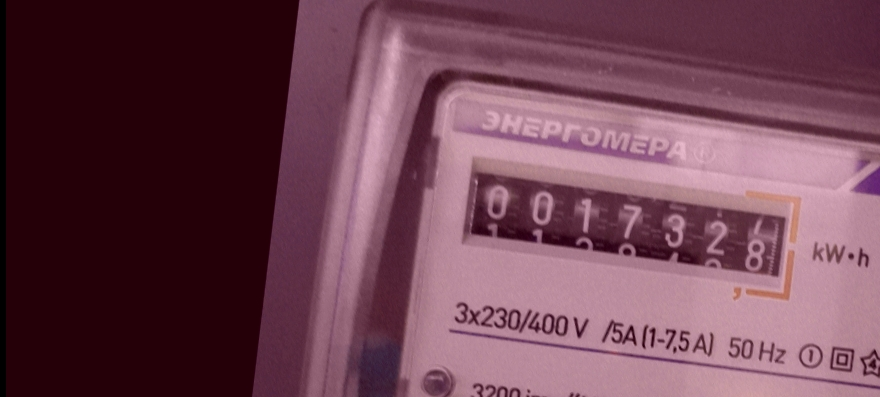0: (482, 180, 513, 222), (530, 187, 557, 227)
1: (574, 193, 596, 235)
2: (704, 217, 730, 256)
3: (663, 211, 689, 249)
7: (618, 200, 644, 242)
8: (743, 235, 766, 272)
screen: (448, 152, 813, 309)
